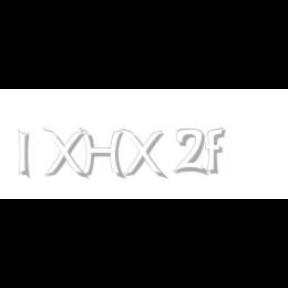2: (172, 128, 206, 176)
H: (79, 128, 125, 180)
I: (17, 128, 30, 180)
X: (42, 128, 86, 180), (121, 128, 165, 180)
f: (205, 128, 229, 174)
